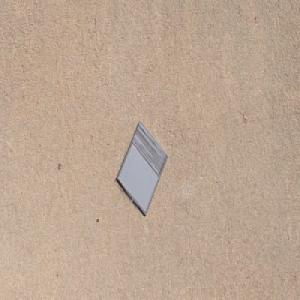PlasticPart: (115, 119, 169, 217)
